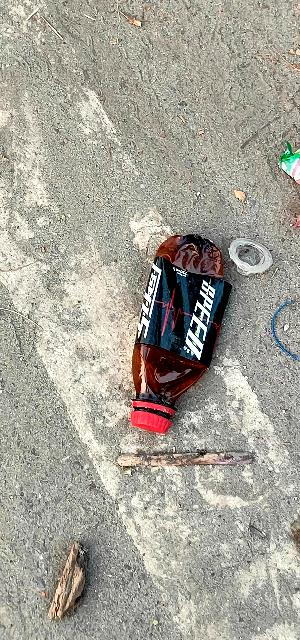bottle: (108, 214, 245, 433)
